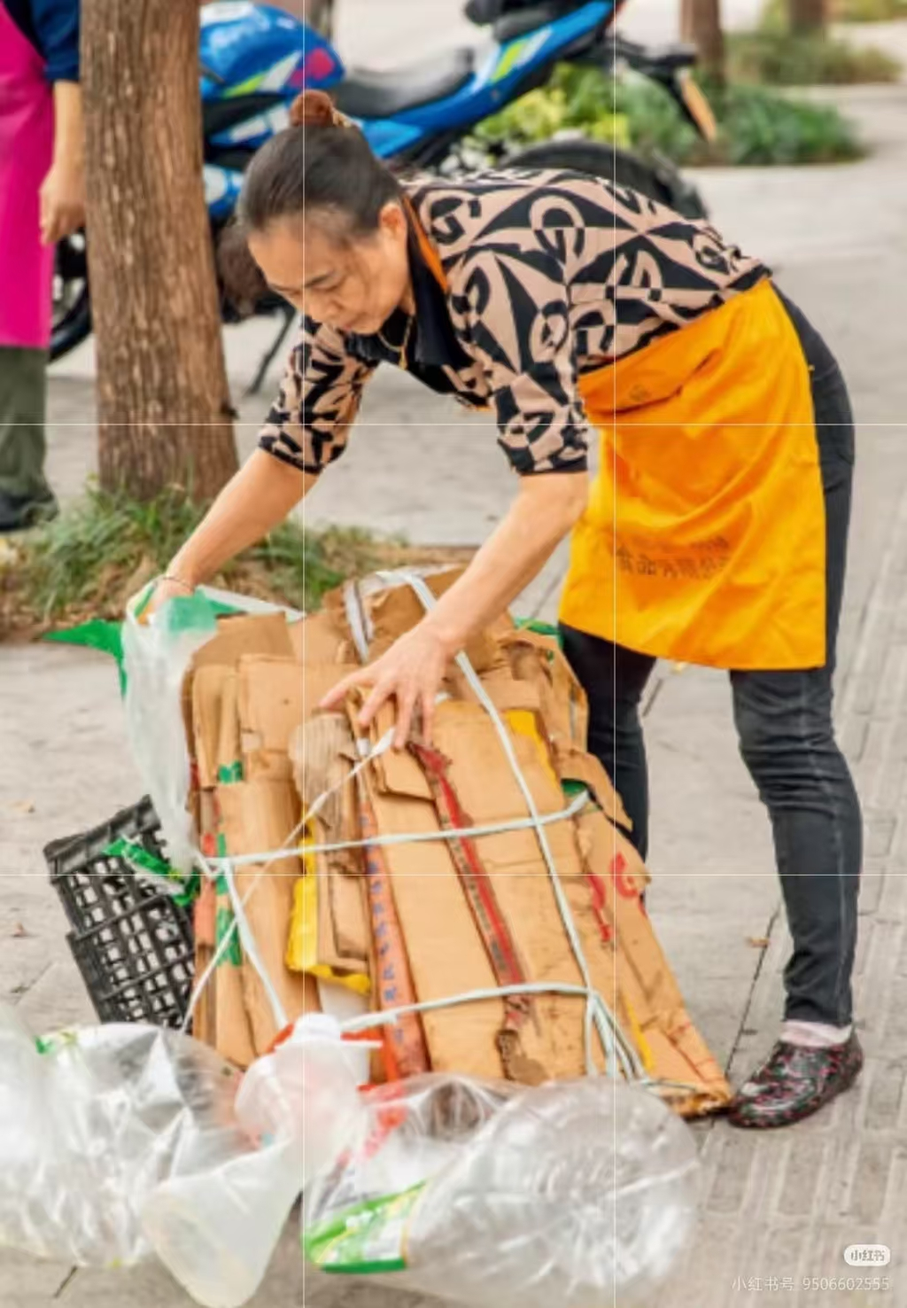bending: (208, 79, 879, 1133)
